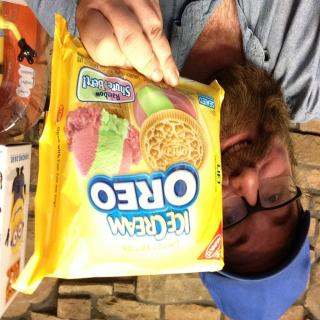Cookie: (130, 82, 208, 176)
